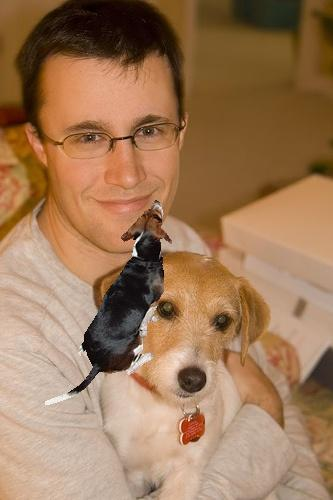tampered: (45, 201, 172, 405)
